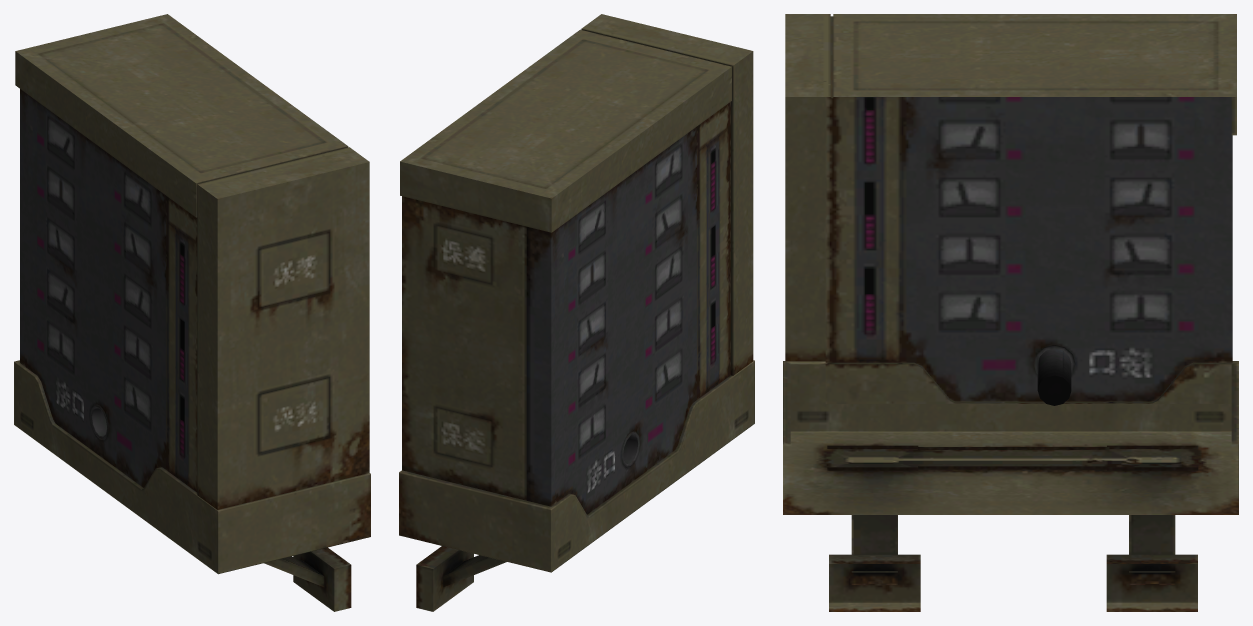
Rendered from panel_interface.DAE.
3 renders of one model, left to right at view 1: azimuth 30°, elevation 25°; view 2: azimuth 150°, elevation 25°; view 3: azimuth 270°, elevation 25°, orthographic. The views are drawn at different scales.
Parts seen in each view (by area): view 1: panel_interface; view 2: panel_interface; view 3: panel_interface.
Part boxes in pixels (x1,y1,x2,y2): panel_interface: (14,14,370,611); panel_interface: (399,14,754,611); panel_interface: (783,14,1238,611).
Size of the model in its own units: 21.04 by 48.35 by 60.2.
